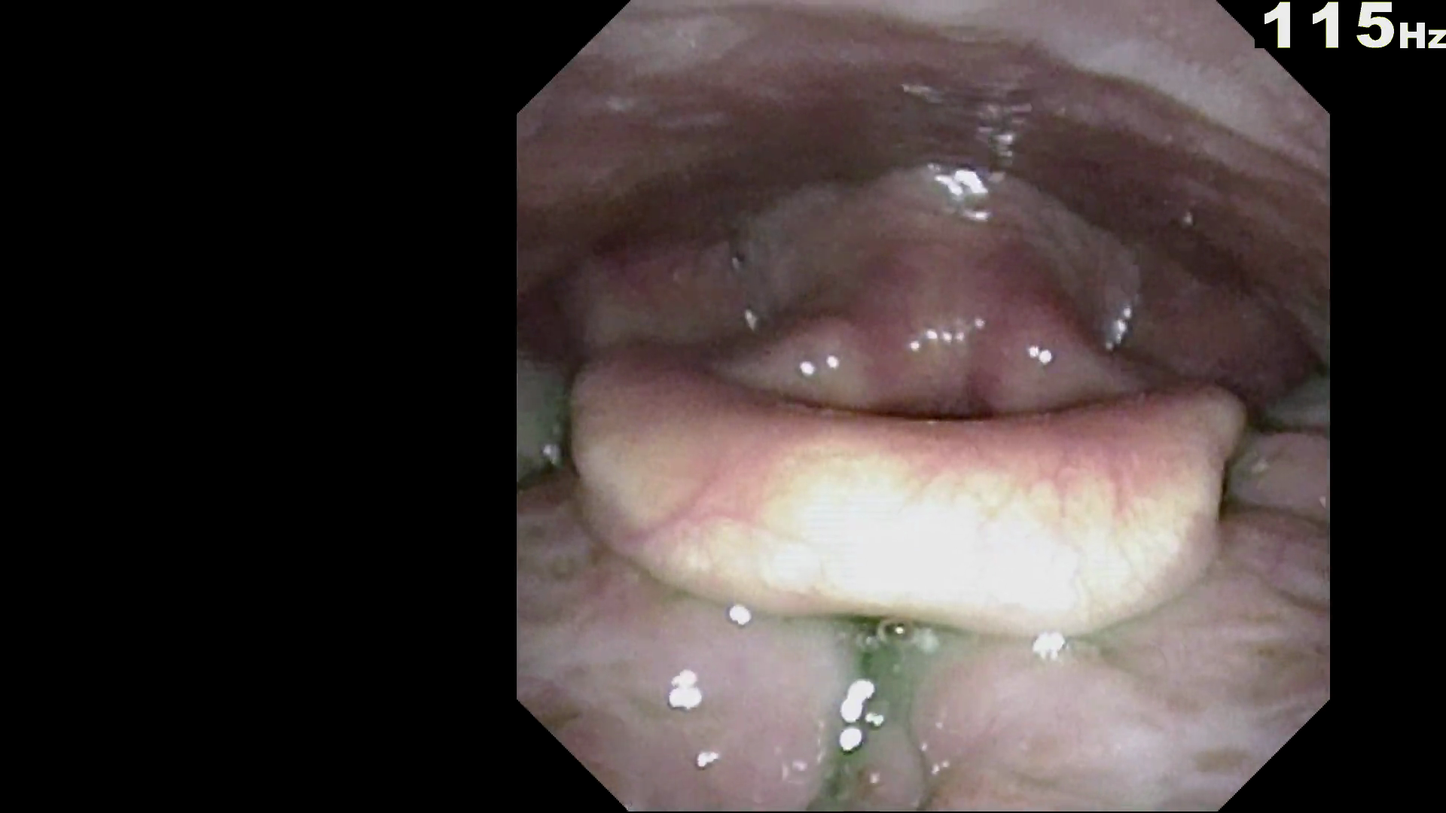epiglottis: (546, 340, 1283, 626)
trachea: (859, 355, 1045, 447), (906, 347, 1025, 477)
